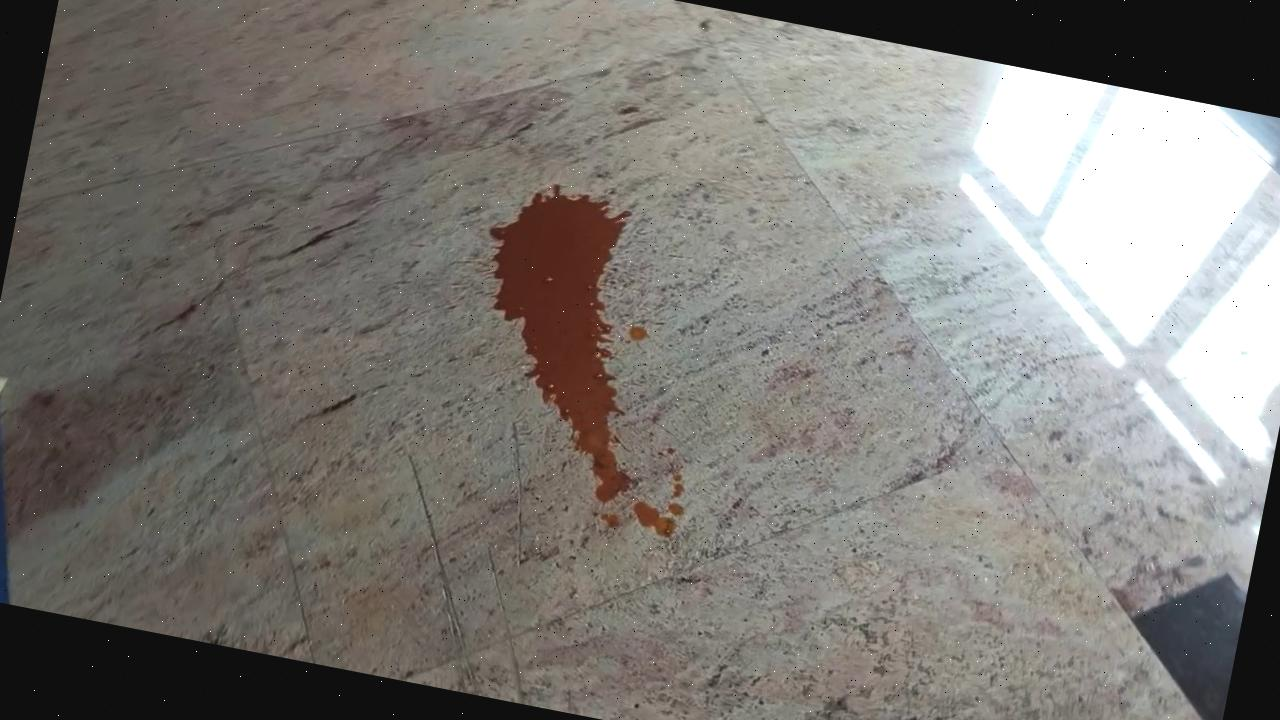dirty_floor: (436, 171, 736, 542)
